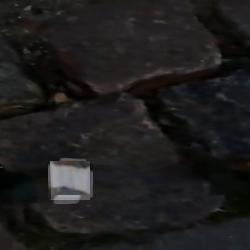restaffald: (50, 162, 90, 201)
